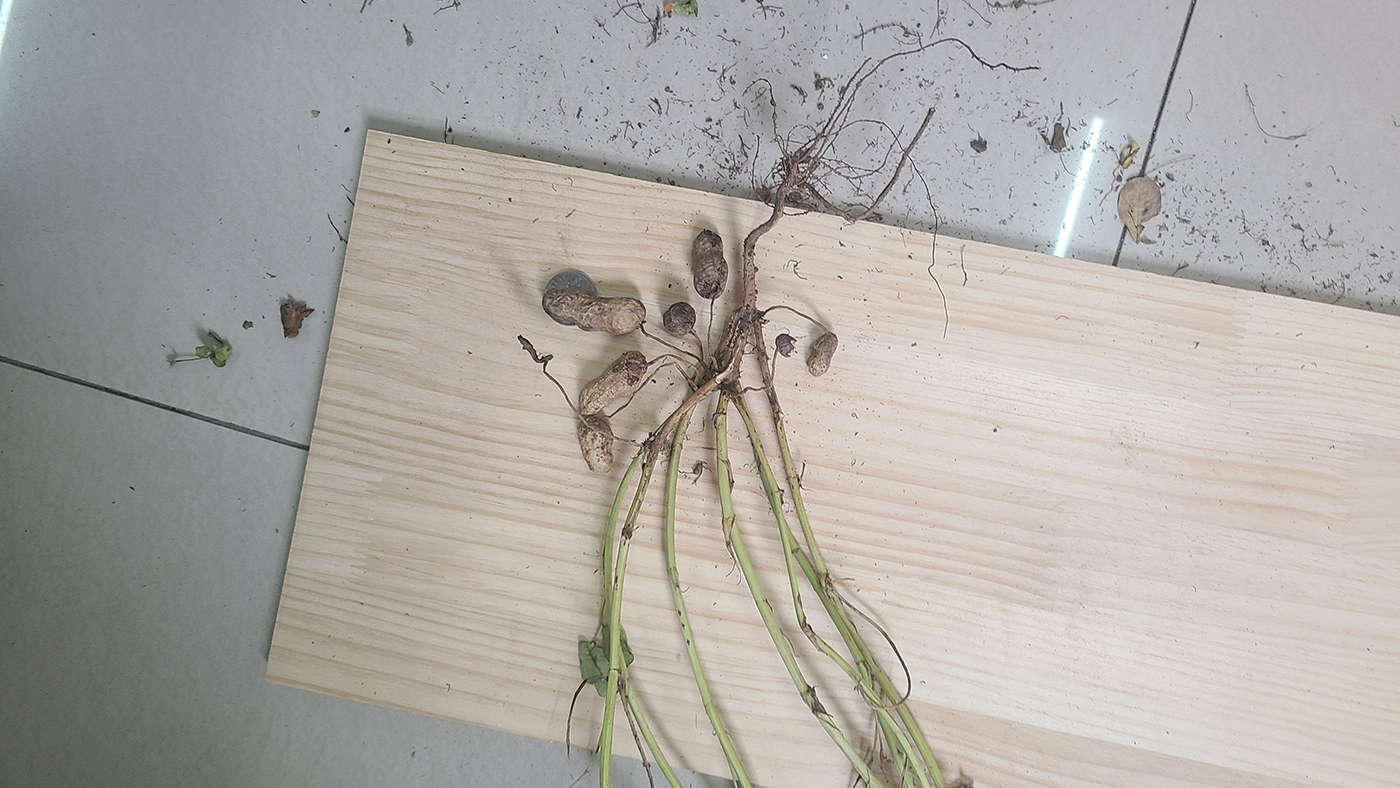h: (579, 420, 617, 470)
l: (574, 347, 648, 415), (542, 290, 646, 334), (691, 229, 728, 300), (806, 333, 838, 376), (662, 301, 696, 337), (515, 334, 551, 362), (776, 334, 796, 357)
